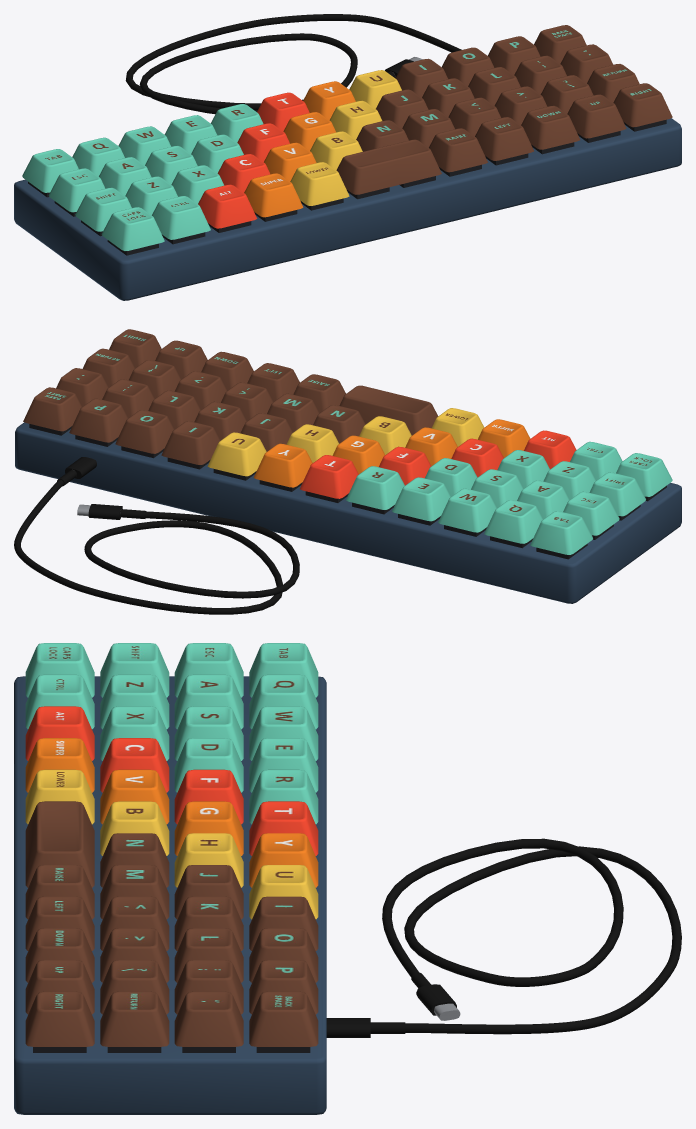
The picture shows the model from 3 angles, top to bottom: view 1: azimuth 30°, elevation 25°; view 2: azimuth 150°, elevation 25°; view 3: azimuth 270°, elevation 25°; orthographic projection. The views are drawn at different scales.
Visible parts, largest first — view 1: KeyLP, pohjaLP, Line001, Cherry; view 2: KeyLP, pohjaLP, Line001, Cherry, USBLP; view 3: KeyLP, pohjaLP, Line001, USBLP, Cherry.
Part boxes in pixels (<box>): KeyLP: <box>22,25,672,250</box>; pohjaLP: <box>14,118,681,300</box>; Line001: <box>125,14,461,114</box>; Cherry: <box>28,119,666,255</box>; KeyLP: <box>23,329,672,554</box>; pohjaLP: <box>15,422,681,603</box>; Line001: <box>14,479,299,614</box>; Cherry: <box>29,424,666,559</box>; USBLP: <box>57,457,145,519</box>; KeyLP: <box>25,643,318,1046</box>; pohjaLP: <box>14,676,326,1114</box>; Line001: <box>382,838,681,1034</box>; USBLP: <box>326,972,460,1037</box>; Cherry: <box>33,1047,310,1052</box>.
Size of what is drawn, in the model's own units: 1.31 by 0.1541 by 0.9603.
5 materials, 5 textured.
